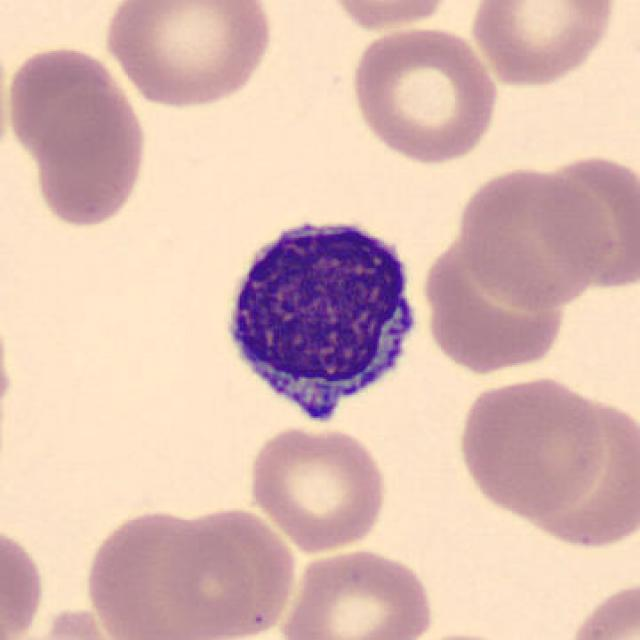Lymphocyte: (208, 201, 430, 439)
RBC: (451, 162, 617, 310), (505, 382, 640, 556), (453, 372, 610, 520), (347, 21, 503, 168), (422, 227, 570, 380), (80, 508, 247, 640), (151, 502, 299, 640), (27, 74, 153, 231), (100, 0, 278, 111), (244, 422, 391, 556), (2, 41, 137, 168), (532, 146, 638, 294), (278, 545, 438, 640), (466, 0, 622, 90), (0, 520, 48, 640), (5, 601, 144, 640), (562, 576, 640, 640), (321, 0, 462, 33), (0, 298, 18, 455), (391, 627, 538, 640)
